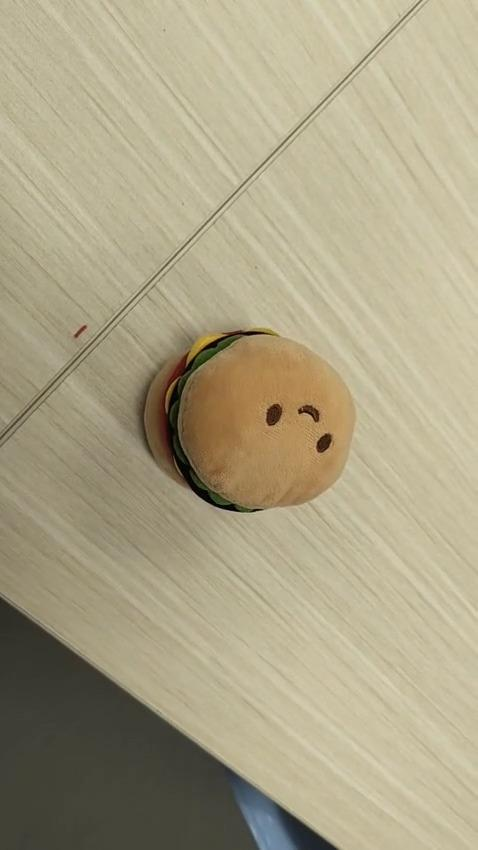hamburger: (142, 325, 356, 514)
